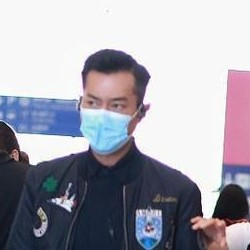mask: (80, 104, 135, 155)
